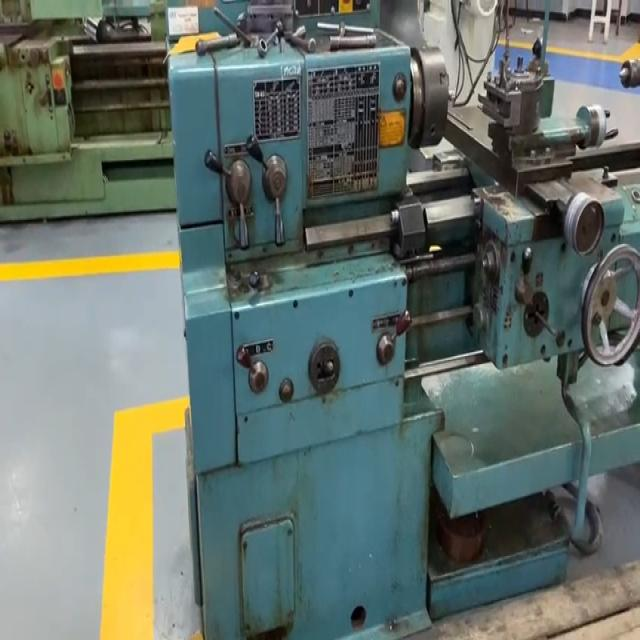tour parallele: (166, 0, 640, 638)
